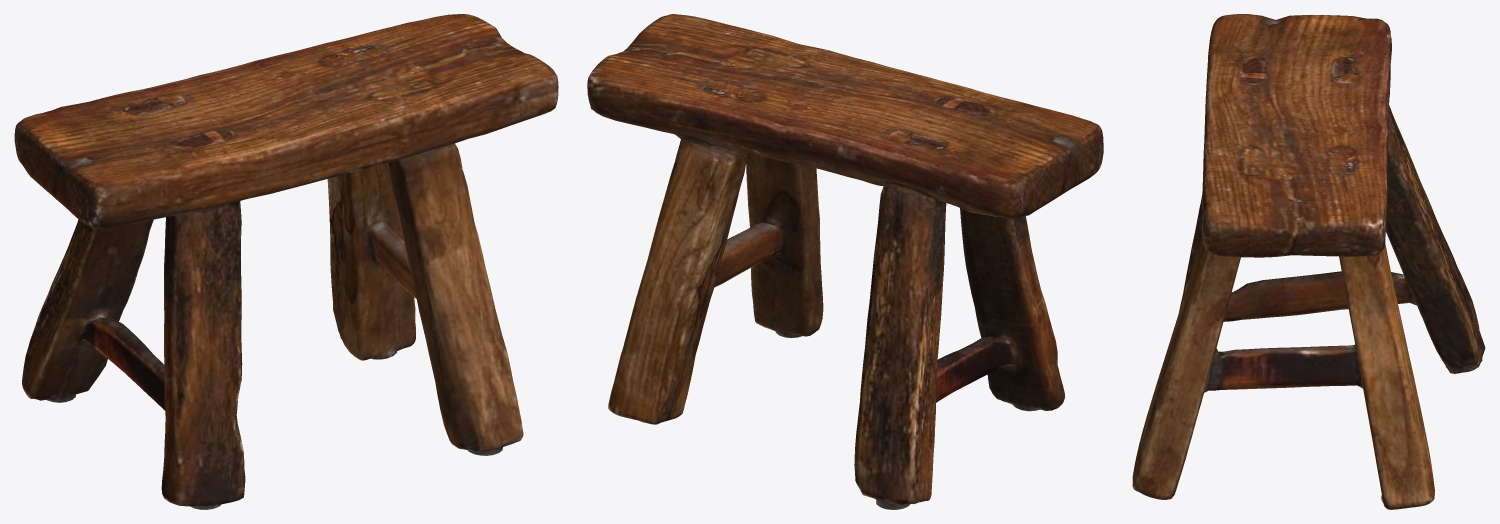
Rendered from wooden_stool_02.glb.
3 views of the same model, side by side, from view 1: azimuth 30°, elevation 25°; view 2: azimuth 150°, elevation 25°; view 3: azimuth 270°, elevation 25° (orthographic). The views are drawn at different scales.
Visible parts, largest first — view 1: wooden_stool_02; view 2: wooden_stool_02; view 3: wooden_stool_02.
Part boxes in pixels (x1,y1,x2,y2): wooden_stool_02: (14,14,558,509); wooden_stool_02: (587,14,1103,509); wooden_stool_02: (1132,14,1485,509).
Size of the model in its own units: 0.2652 by 0.1819 by 0.1831.
Materials: 1 (1 with a texture image).
